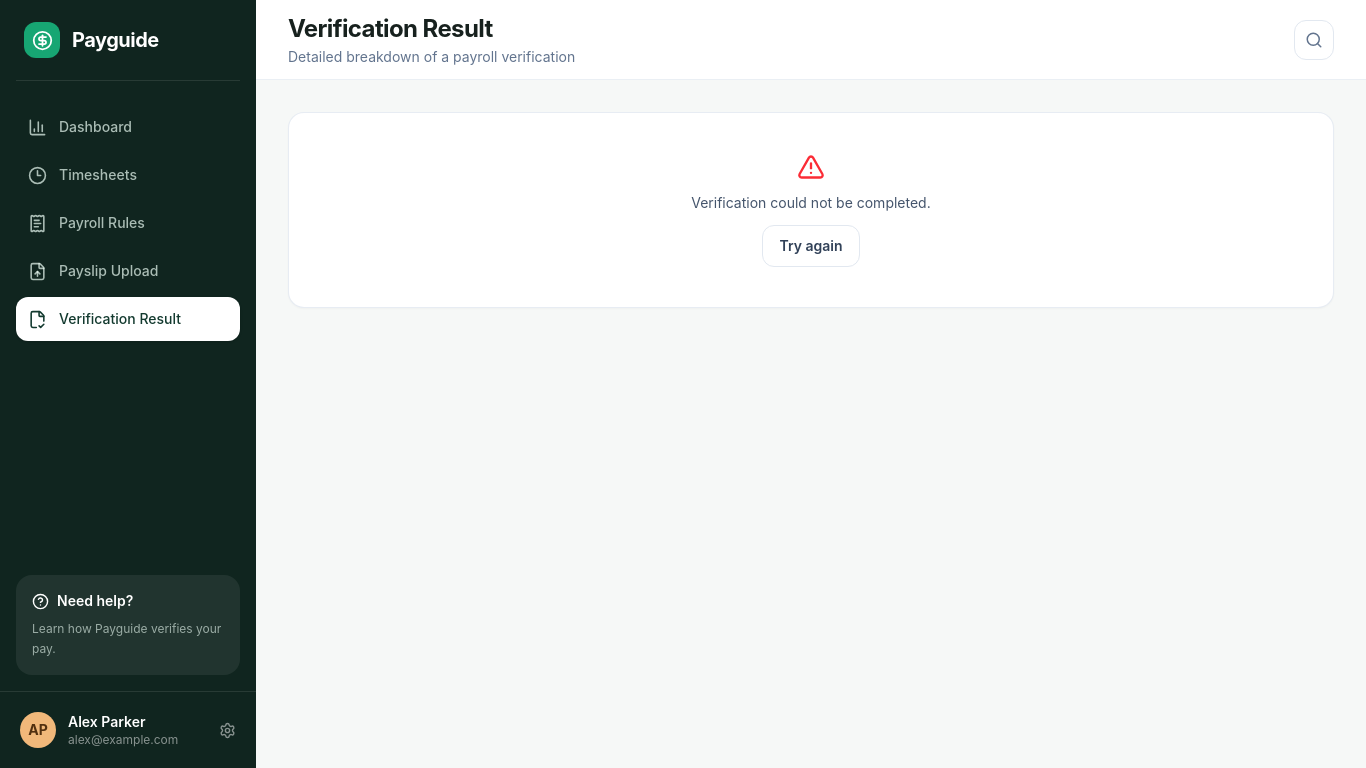
Scenario: Verification Result page › surfaces a retry option if the automatic verification run fails, and retry tries again
Expected: the text "Verification could not be completed." is shown, top-left (691, 193), bottom-right (931, 213)
Click the button "Try again".
click(811, 246)  # box top-left (762, 225), bottom-right (860, 267)
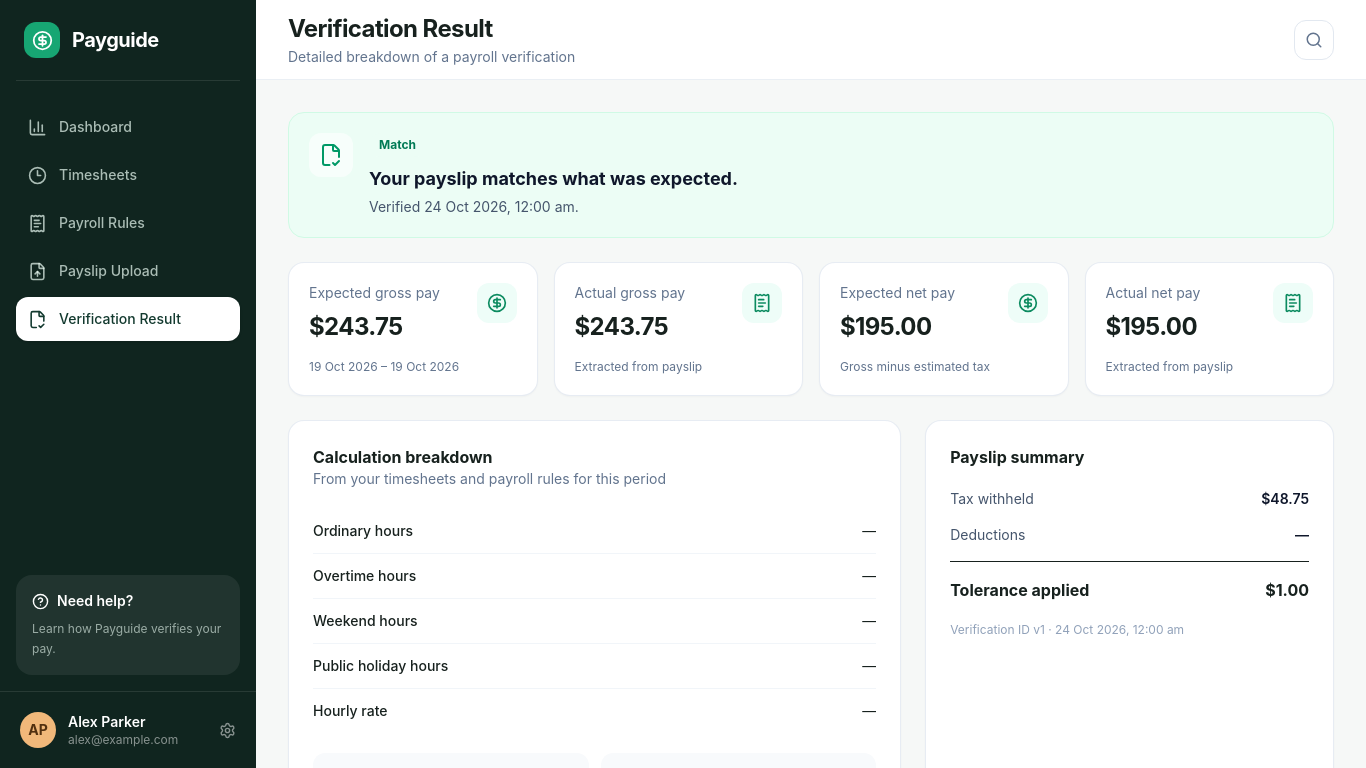
Expected: the text "Match" is shown, top-left (369, 133), bottom-right (426, 157)
